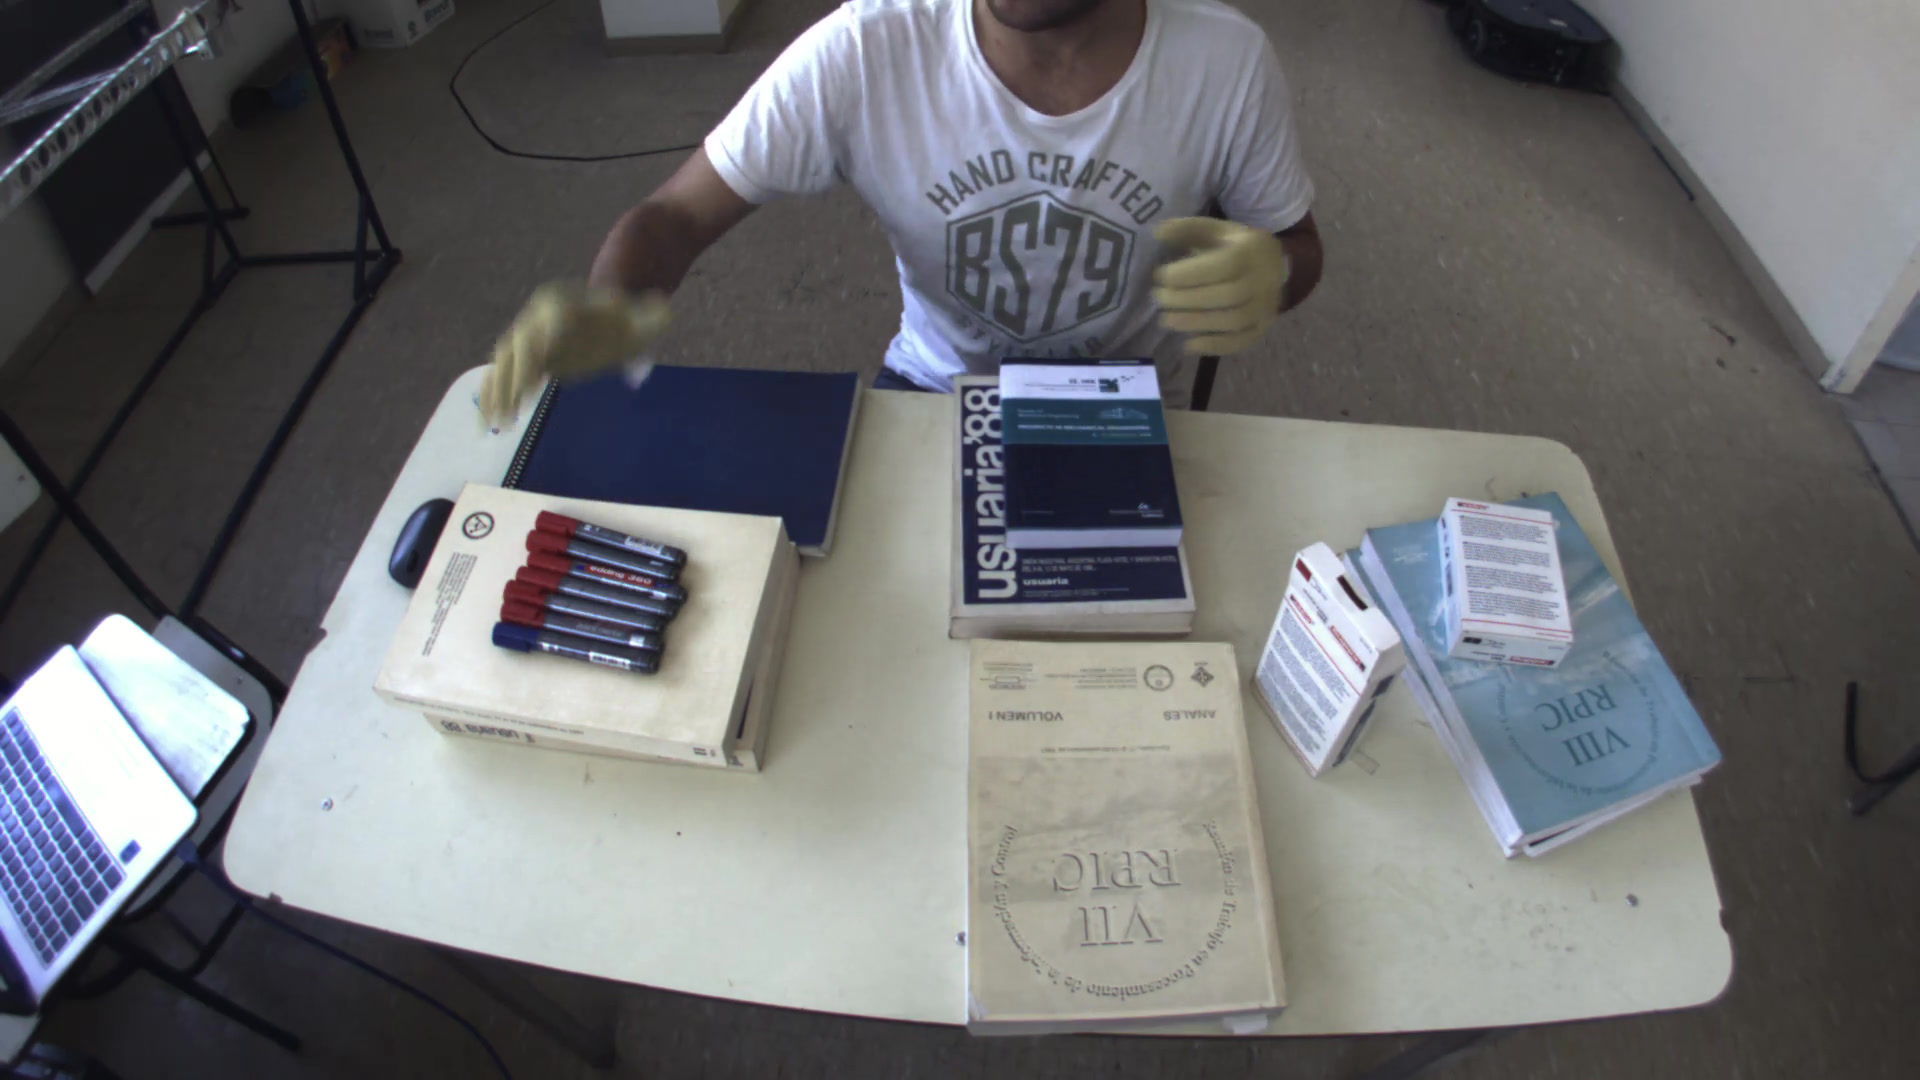hand: (458, 266, 671, 429), (1143, 204, 1303, 359)
